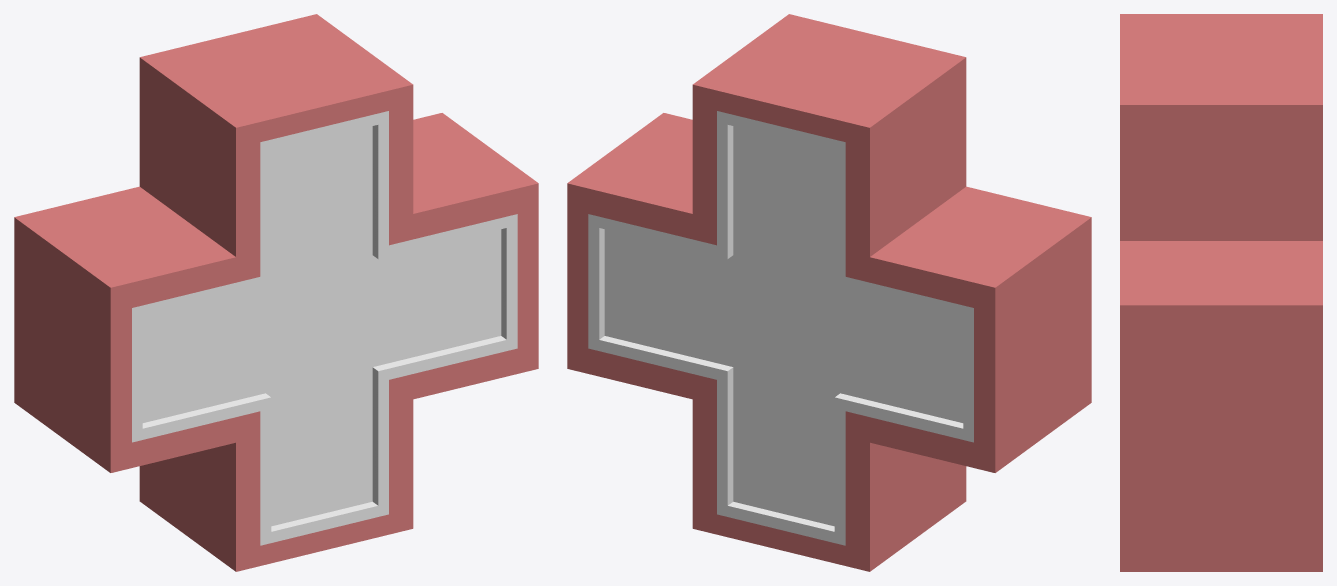
File: clinic.glb
3 renders of one model, left to right at view 1: azimuth 30°, elevation 25°; view 2: azimuth 150°, elevation 25°; view 3: azimuth 270°, elevation 25°, orthographic. The views are drawn at different scales.
Visible parts, largest first — view 1: Clinic; view 2: Clinic; view 3: Clinic.
Boxes of the visible parts, x1,y1,x2,y2 form: Clinic: (14, 14, 538, 571); Clinic: (567, 14, 1091, 571); Clinic: (1120, 14, 1322, 571).
Size of the model in its own units: 0.2917 by 0.2891 by 0.1139.
